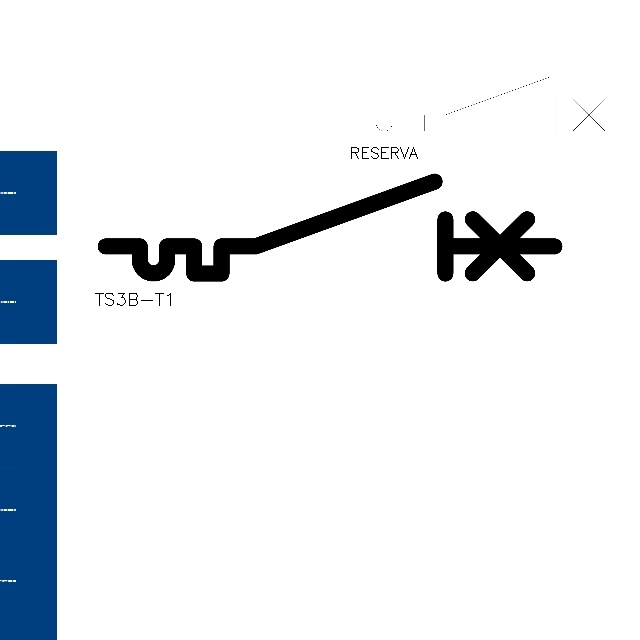interruptor_termomagnetico: (94, 170, 565, 285), (349, 70, 628, 138)
